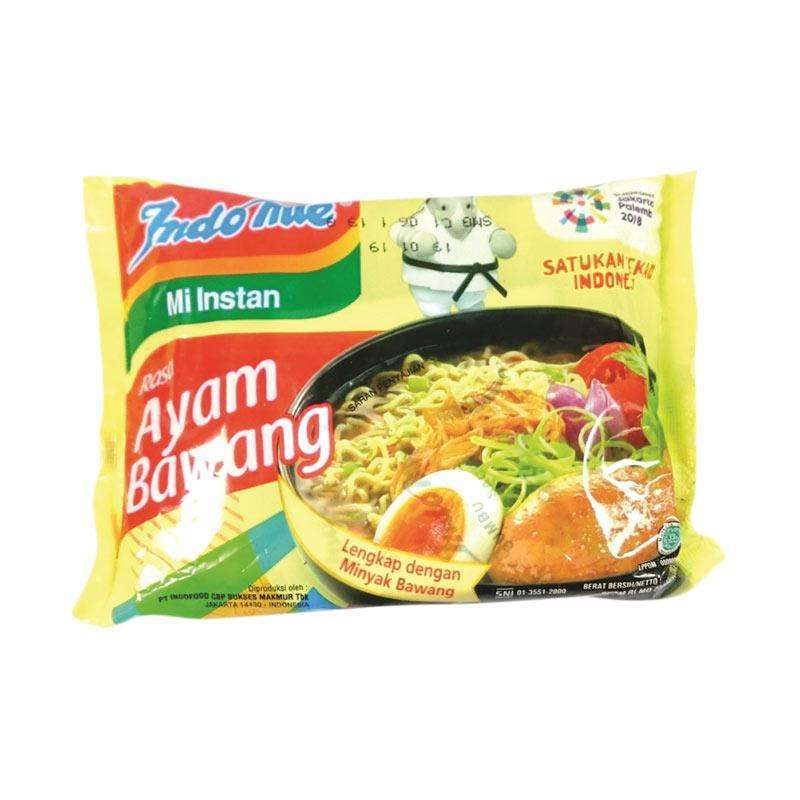indomie ayam bawang: (71, 152, 740, 632)
